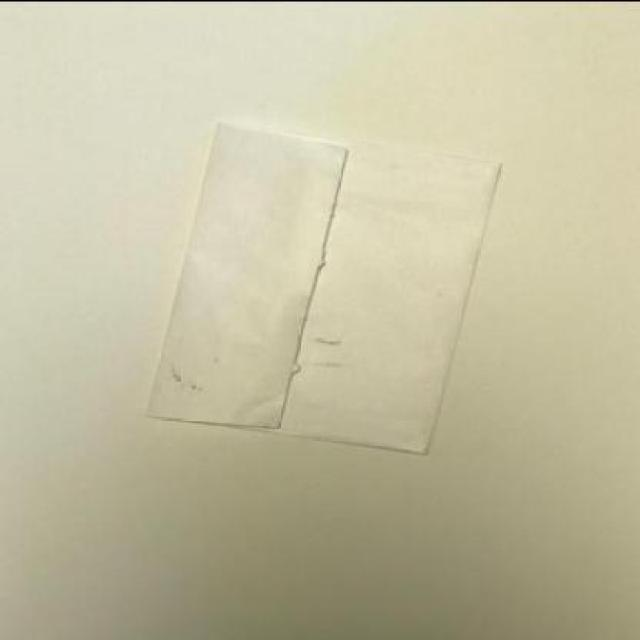PAPER: (147, 118, 505, 453)
